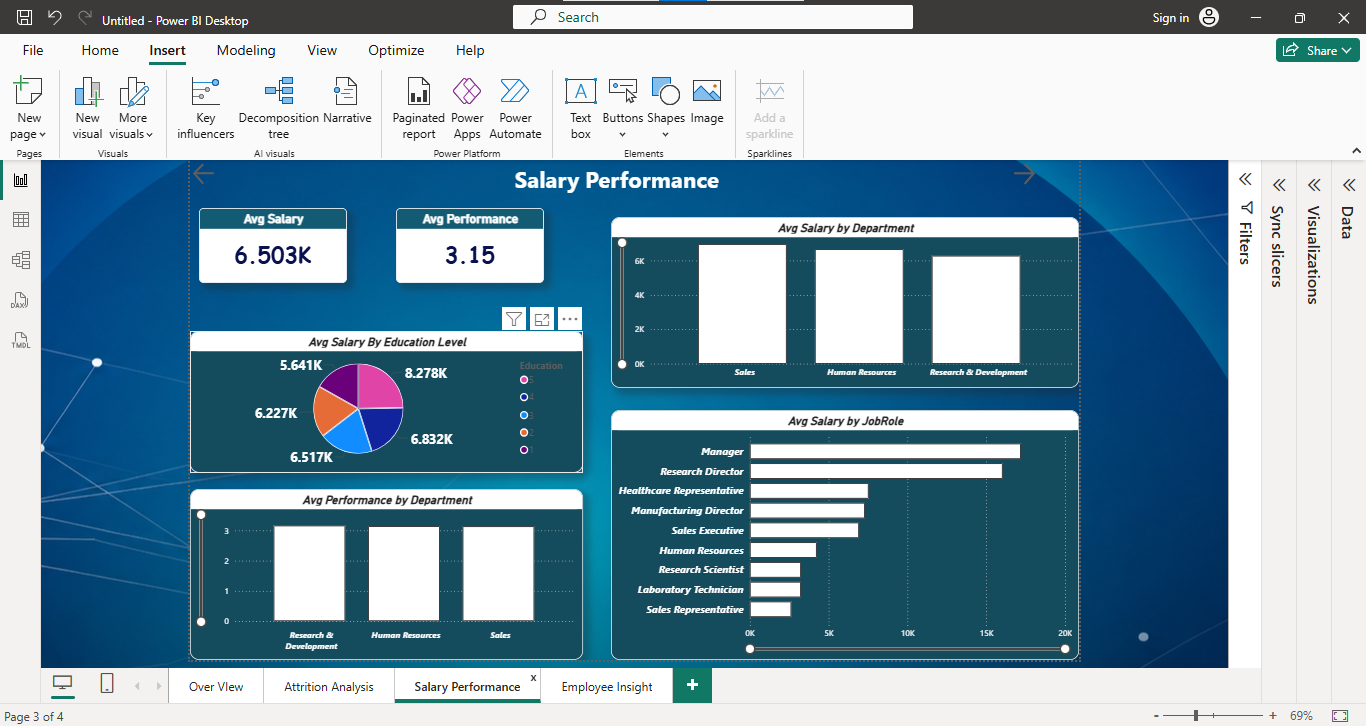

This screenshot's page, from the dashboard's own definition file:
{"tool":"powerbi","page":{"name":"Salary Performance","canvas":[1280,720],"ordinal":2},"visuals":[{"type":"textbox","box":[125.3,0,987.8,69.1],"z":0},{"type":"cardVisual","title":"Avg Salary","fields":{"Data":["Query1.Avg Salary"]},"box":[13,69.1,213.1,108],"z":1000},{"type":"columnChart","title":"Avg Salary by Department ","fields":{"Category":["Query1.Department"],"Y":["Query1.Avg Salary"]},"box":[606.2,82.1,673.9,246.2],"z":2000},{"type":"pieChart","title":"Avg Salary By Education  Level","fields":{"Category":["Query1.Education"],"Y":["Query1.Avg Salary"]},"box":[0,246.2,565.9,204.5],"z":3000},{"type":"clusteredBarChart","title":"Avg Salary by JobRole ","fields":{"Category":["Query1.JobRole"],"Y":["Query1.Avg Salary"]},"box":[606.2,360,673.9,360],"z":4000},{"type":"columnChart","title":"Avg Performance by Department ","fields":{"Y":["Query1.Avg Performance"],"Category":["Query1.Department"]},"box":[0,473.8,565.9,246.2],"z":5000},{"type":"cardVisual","title":"Avg Performance","fields":{"Data":["Query1.Avg Performance"]},"box":[296.6,69.1,213.1,108],"z":6000},{"type":"actionButton","box":[1180.8,0,99.4,40.3],"z":6001},{"type":"actionButton","box":[0,0,100,40],"z":6002}]}

Visuals, with their boxes on the page's 1280x720 design canvas (x1, y1, x2, y2). These are canvas units, not pixel positions in the 1366x726 screenshot, which may show the page scaled, cropped or inside an application window:
textbox: x1=125, y1=0, x2=1113, y2=69
"Avg Salary" cardVisual: x1=13, y1=69, x2=226, y2=177
"Avg Salary by Department " columnChart: x1=606, y1=82, x2=1280, y2=328
"Avg Salary By Education  Level" pieChart: x1=0, y1=246, x2=566, y2=451
"Avg Salary by JobRole " clusteredBarChart: x1=606, y1=360, x2=1280, y2=720
"Avg Performance by Department " columnChart: x1=0, y1=474, x2=566, y2=720
"Avg Performance" cardVisual: x1=297, y1=69, x2=510, y2=177
actionButton: x1=1181, y1=0, x2=1280, y2=40
actionButton: x1=0, y1=0, x2=100, y2=40
